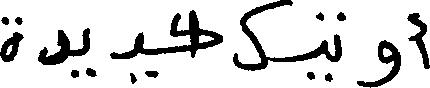X: (231, 0, 287, 75), (171, 5, 220, 62), (358, 35, 398, 87), (115, 27, 142, 87), (41, 25, 67, 69), (0, 12, 20, 66), (417, 8, 429, 73), (320, 7, 326, 85), (83, 23, 89, 80), (335, 7, 340, 66)
